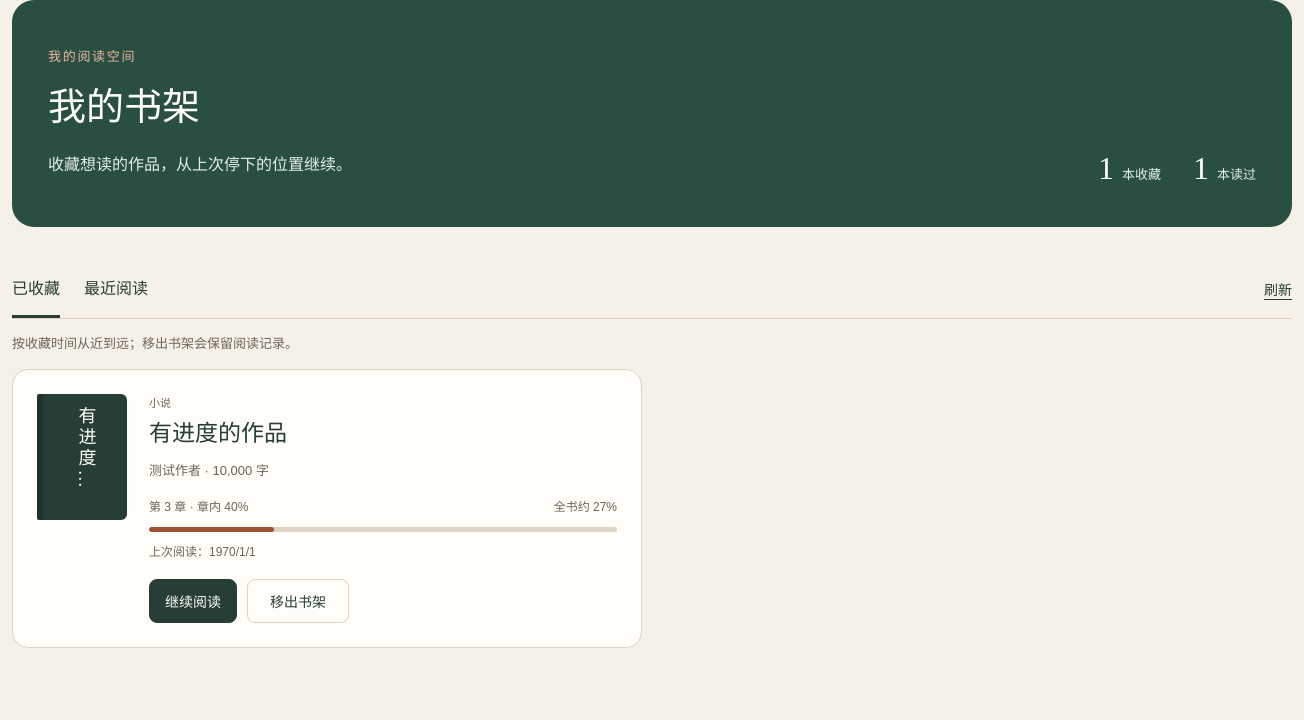
clears private collection data when a mutation discovers an expired session
Click the button "移出书架".
click(298, 601)  # box [247,579,349,623]
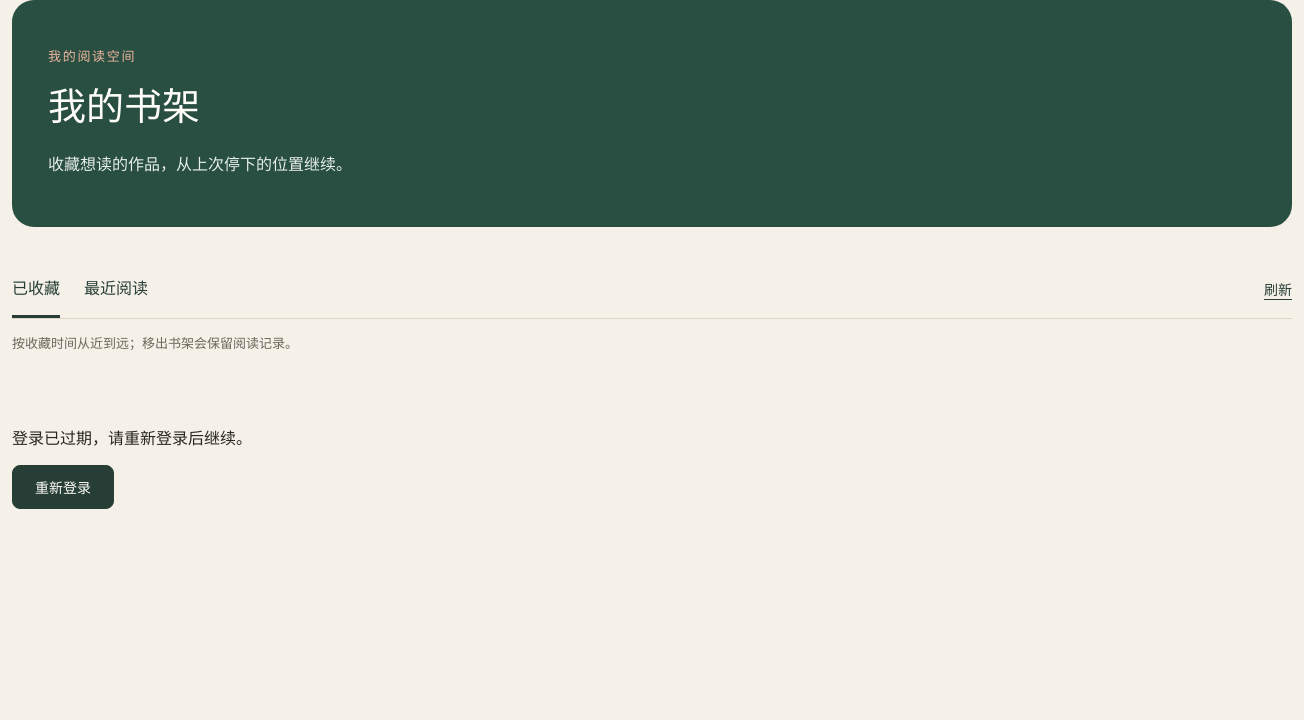
Now the text "重新登录" is shown, box [12,430,252,447]
Now no list items with class "collection-card" are shown
Now the text "有进度的作品" is gone
